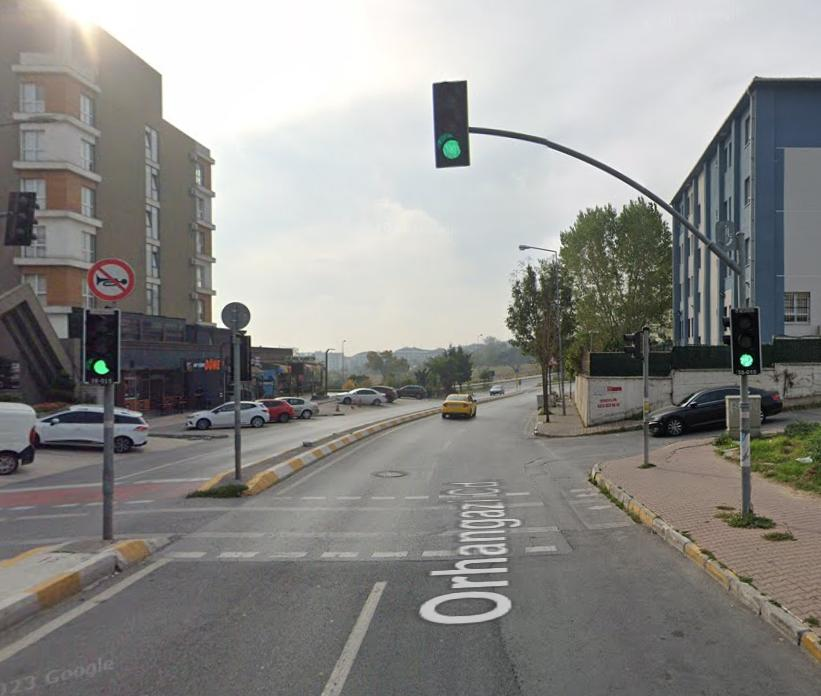greenlight: (84, 309, 120, 379), (434, 84, 466, 161), (733, 308, 761, 369)
